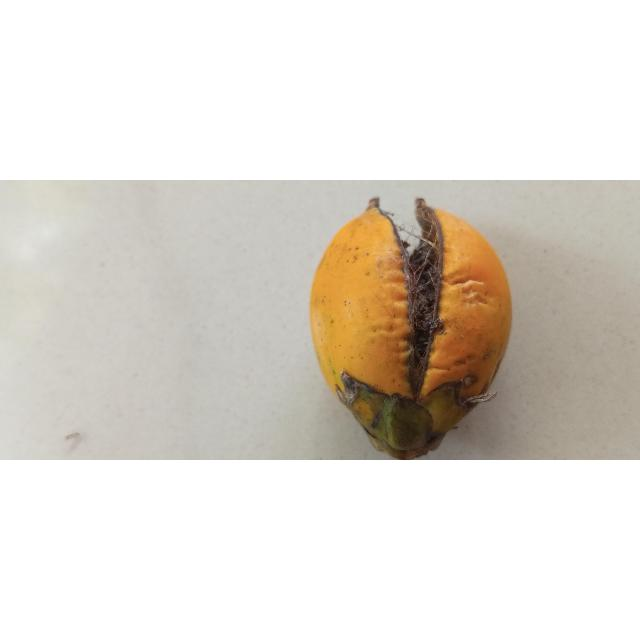damaged: (308, 197, 513, 461)
